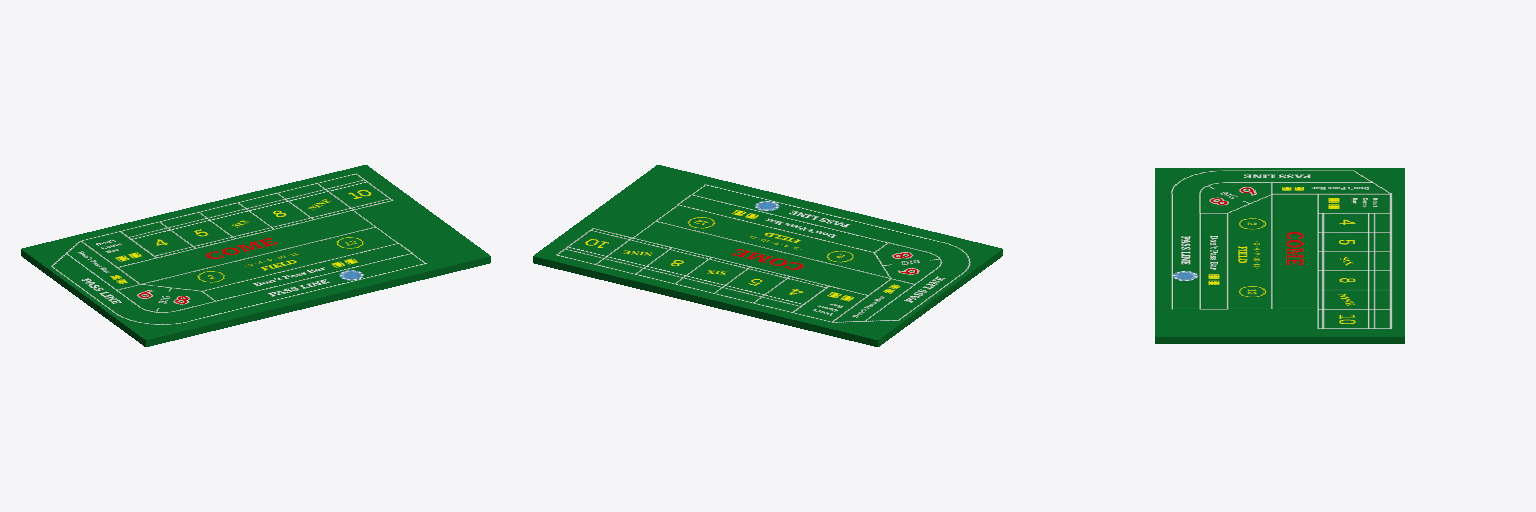
3 views of the same model, side by side, from view 1: azimuth 30°, elevation 25°; view 2: azimuth 150°, elevation 25°; view 3: azimuth 270°, elevation 25° (orthographic).
Visible parts, largest first — view 1: Tablero; view 2: Tablero; view 3: Tablero.
Boxes of the visible parts, box(x1,y1,x2,y2) form: Tablero: box(21, 165, 490, 346); Tablero: box(533, 165, 1002, 346); Tablero: box(1155, 168, 1404, 343).
Bounding box in the file's own units: 25.5 × 0.5 × 16.
1 materials, 1 textured.